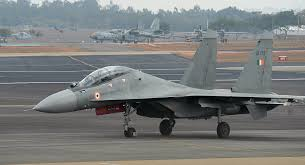maybay_muctieu: (43, 36, 305, 140)
